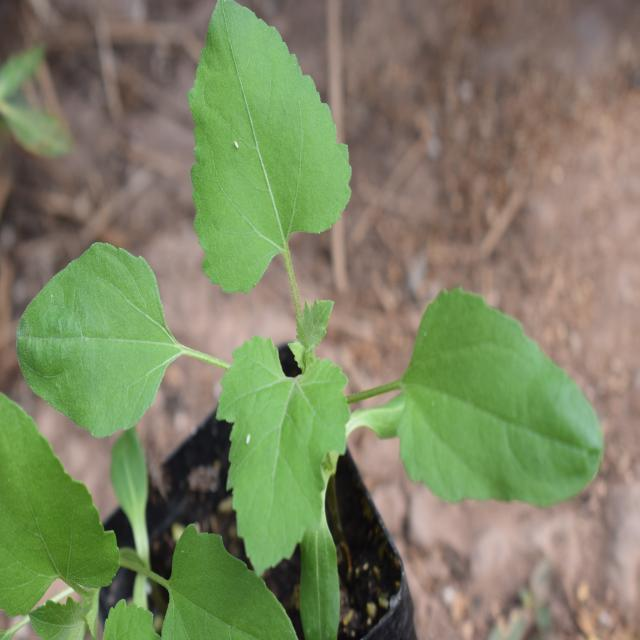cocklebur: (11, 53, 601, 528)
